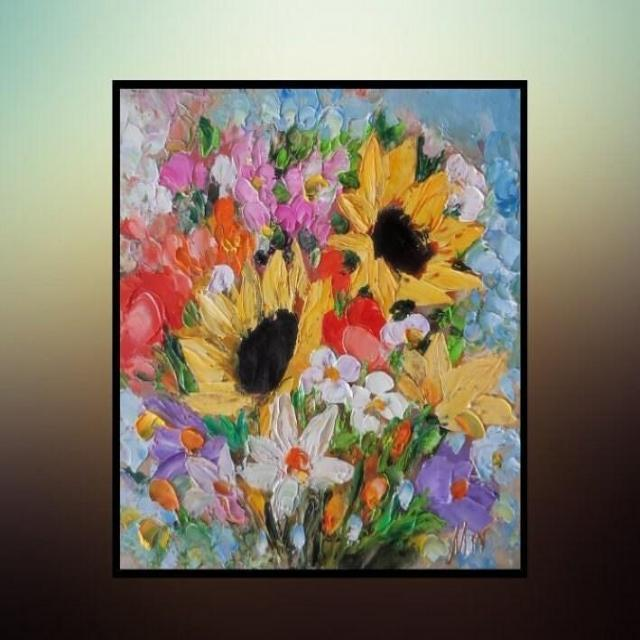painting: (112, 80, 524, 574)
